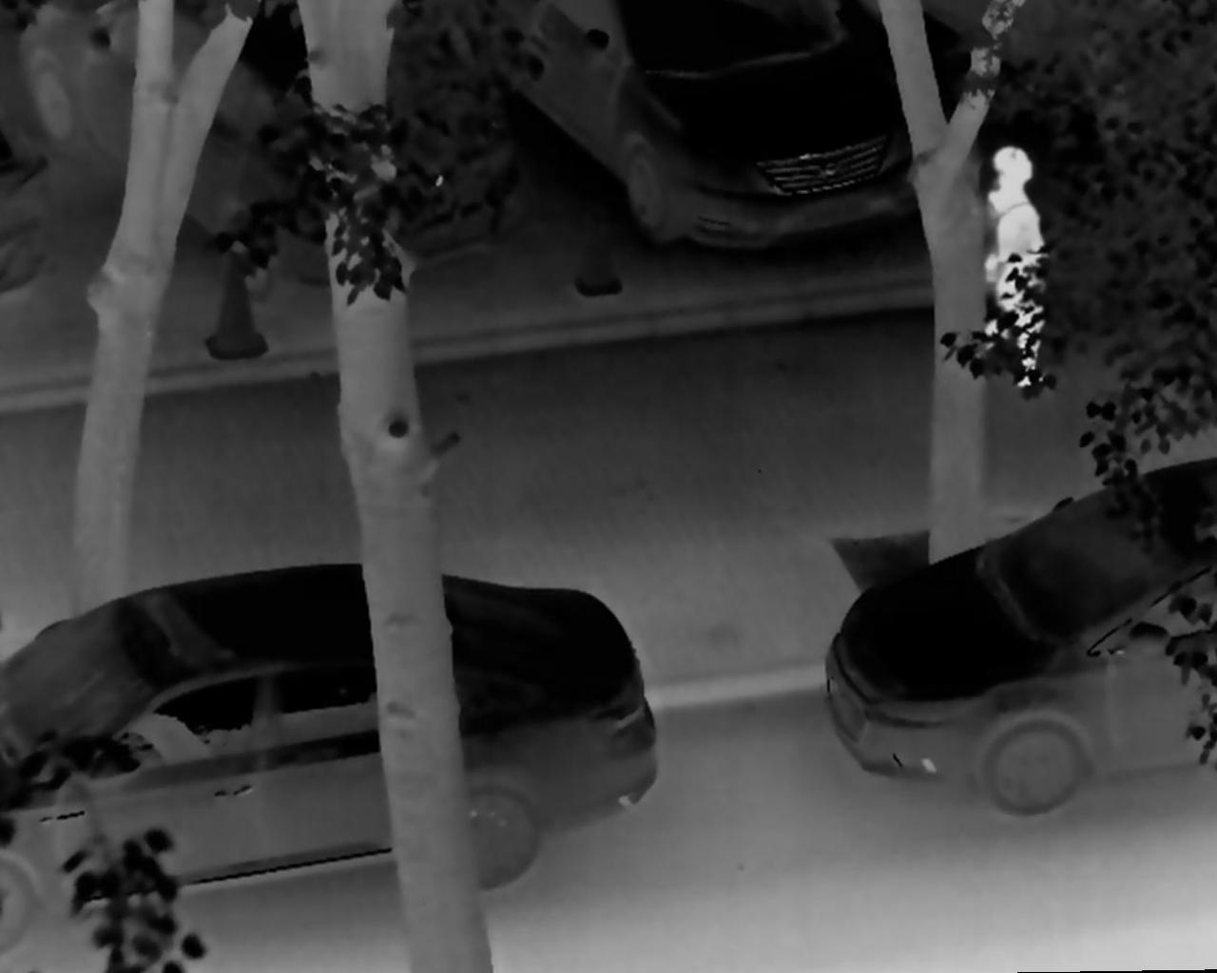person: (968, 143, 1053, 394)
